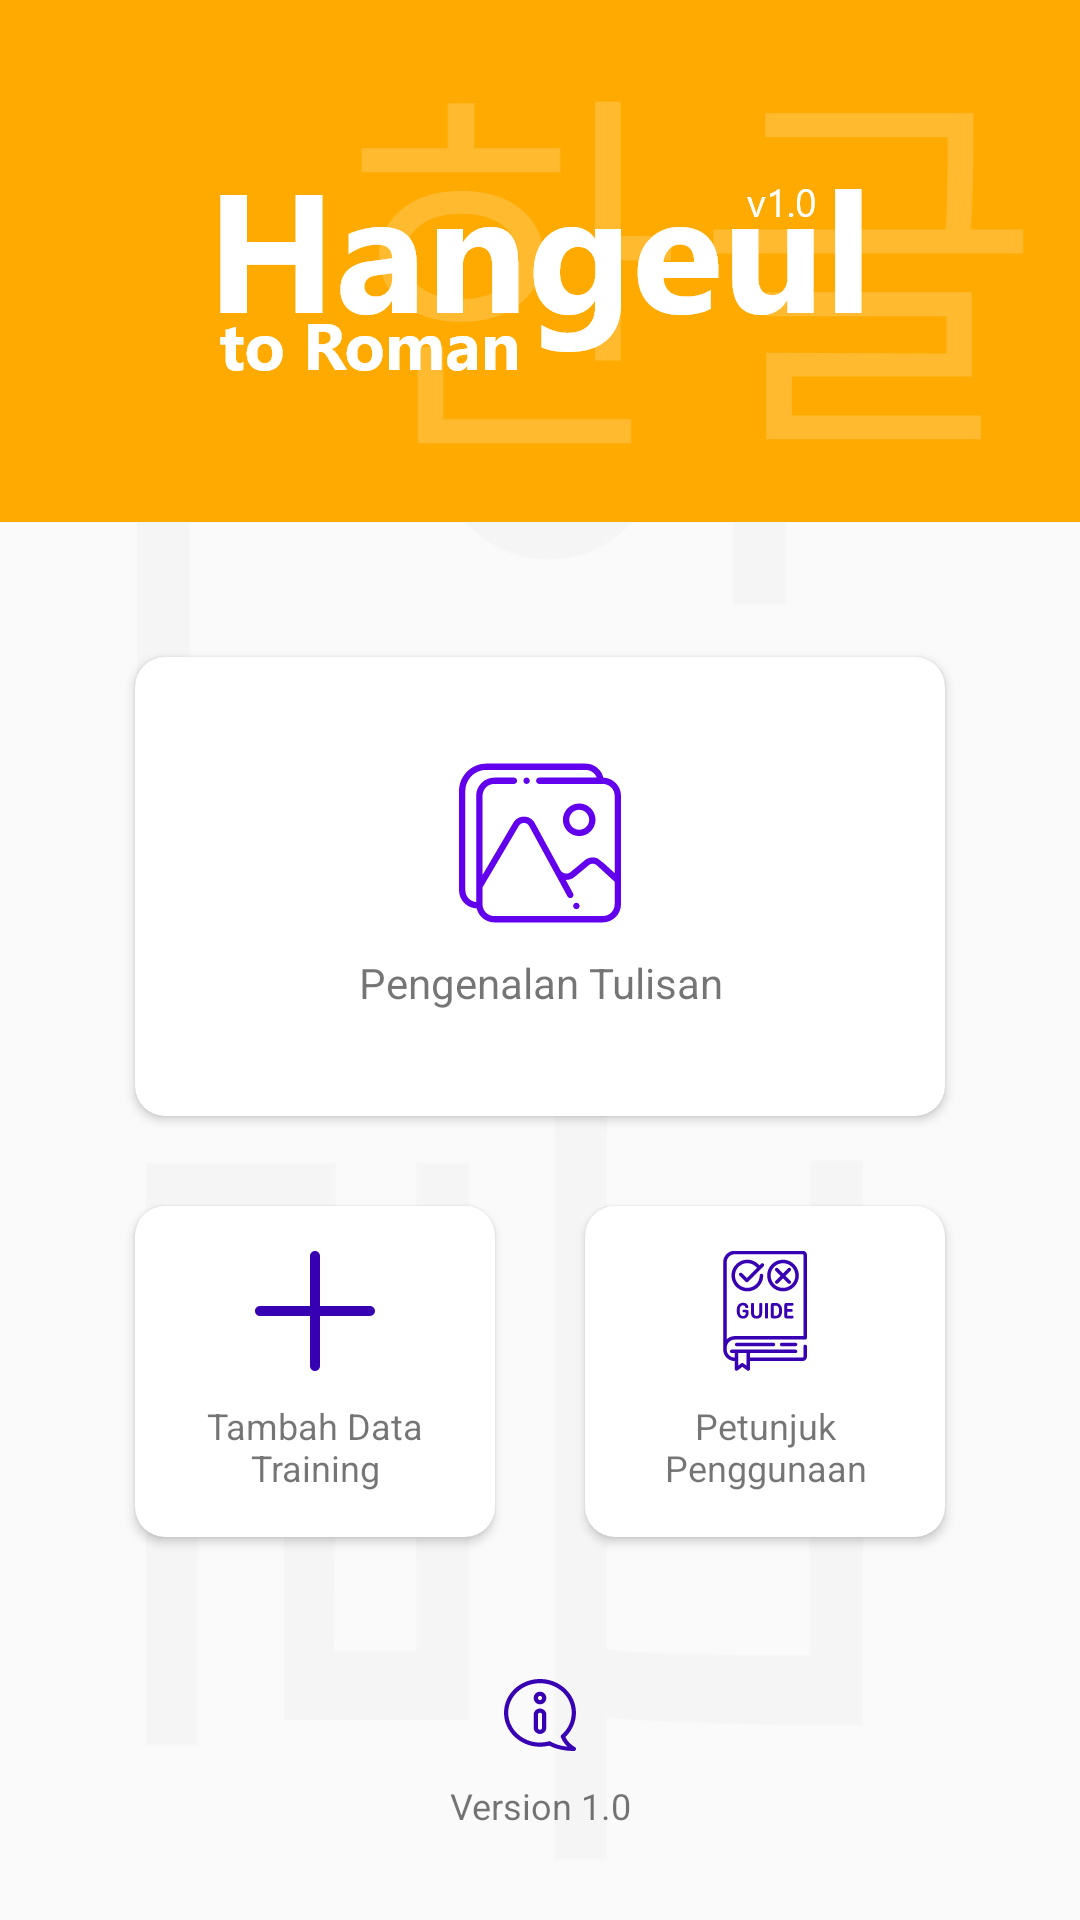

Icon bounding boxes for this 1080x1920 phone screenshot, format (x1, y1, x2, y2):
information: (504, 1679, 576, 1751)
